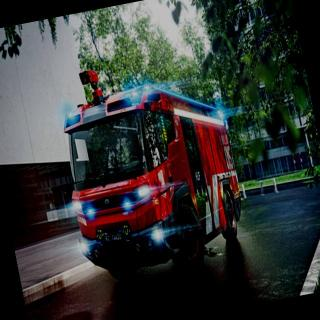Fire_truck: (46, 45, 254, 293)
